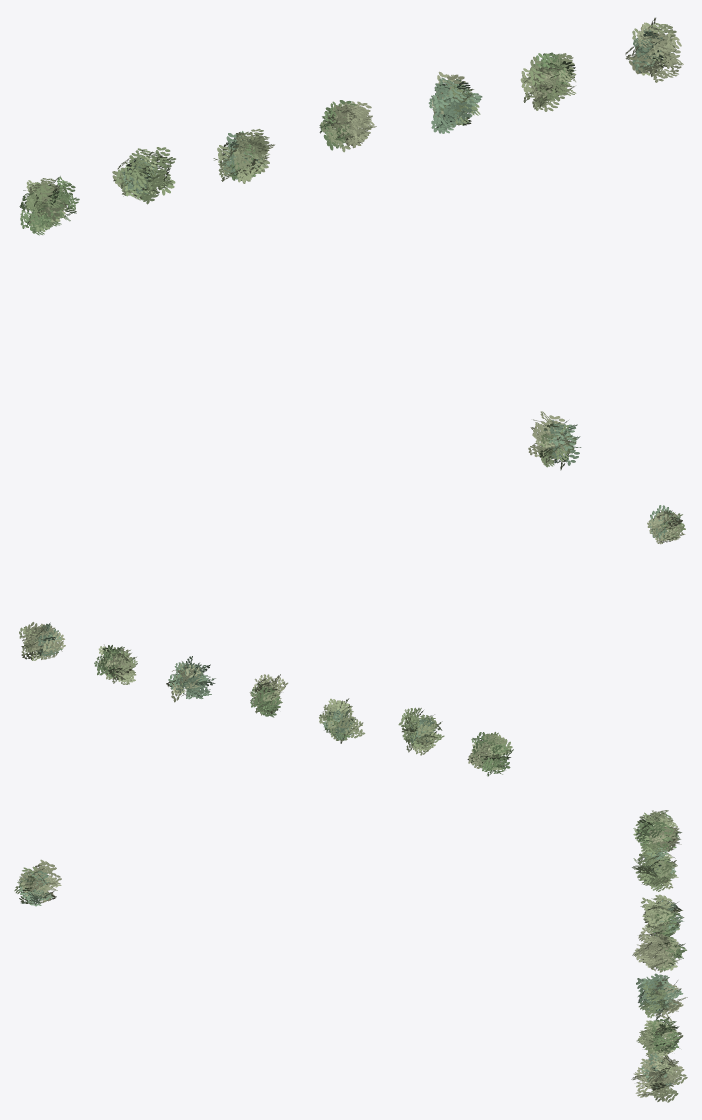
The model's file is campus-tree--1_-4-far.glb.
The picture shows the model from 3 angles, top to bottom: view 1: azimuth 30°, elevation 25°; view 2: azimuth 150°, elevation 25°; view 3: azimuth 270°, elevation 25°; orthographic projection. The views are drawn at different scales.
Parts seen in each view (by area): view 1: Campus leaf canopy; view 2: Campus leaf canopy; view 3: Campus leaf canopy.
Boxes of the visible parts, x1,y1,x2,y2 form: Campus leaf canopy: (19, 17, 683, 470); Campus leaf canopy: (19, 505, 685, 776); Campus leaf canopy: (14, 810, 687, 1102).
Bounding box in the file's own units: 73.48 × 7.14 × 77.44.
1 material, 1 textured.
